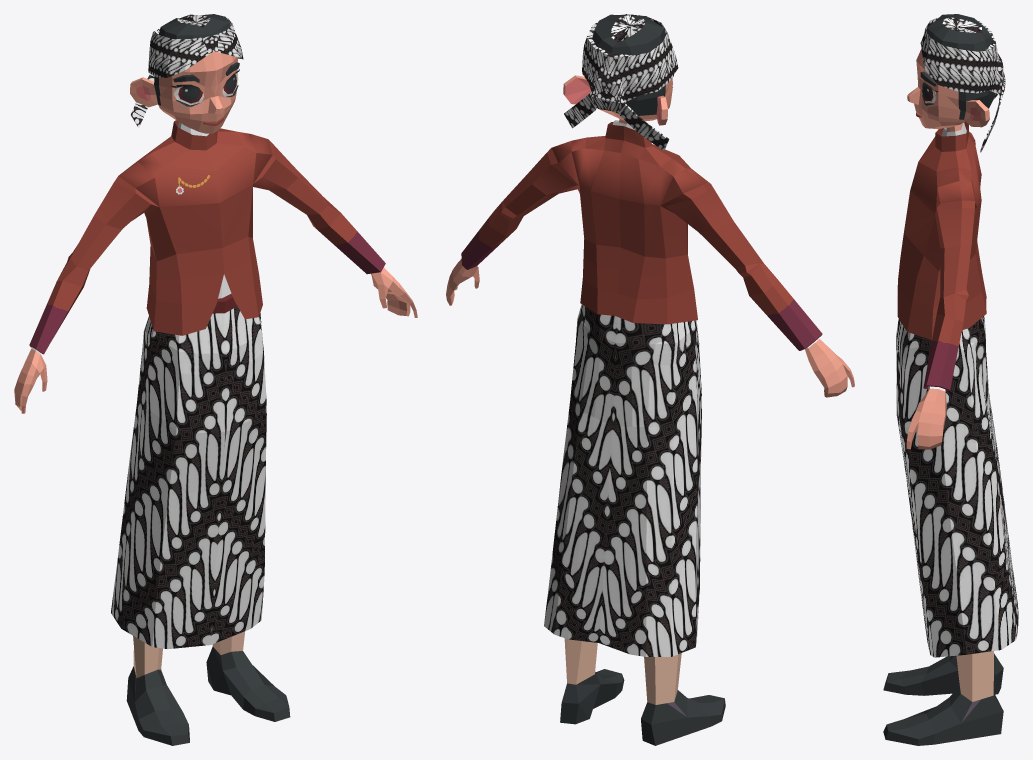
File: jogja.glb
3 renders of one model, left to right at view 1: azimuth 30°, elevation 25°; view 2: azimuth 150°, elevation 25°; view 3: azimuth 270°, elevation 25°, orthographic.
Visible parts, largest first — view 1: sarung_55, baju_53, body_54, head_57, blangkon_56; view 2: sarung_55, baju_53, blangkon_56, body_54, head_57; view 3: sarung_55, baju_53, body_54, blangkon_56, head_57.
Boxes of the visible parts, <box> form: sarung_55: <box>111,306,266,649</box>; baju_53: <box>14,120,417,413</box>; body_54: <box>126,122,290,745</box>; head_57: <box>130,51,239,133</box>; blangkon_56: <box>131,14,243,127</box>; sarung_55: <box>544,304,701,656</box>; baju_53: <box>446,122,854,397</box>; blangkon_56: <box>564,14,678,150</box>; body_54: <box>560,119,725,745</box>; head_57: <box>563,75,673,125</box>; sarung_55: <box>896,316,1018,657</box>; baju_53: <box>897,121,986,449</box>; body_54: <box>883,122,1003,745</box>; blangkon_56: <box>920,14,1005,152</box>; head_57: <box>907,49,995,129</box>.
Bounding box in the file's own units: 2.47 × 4.09 × 0.7301.
2 materials, 2 textured.
